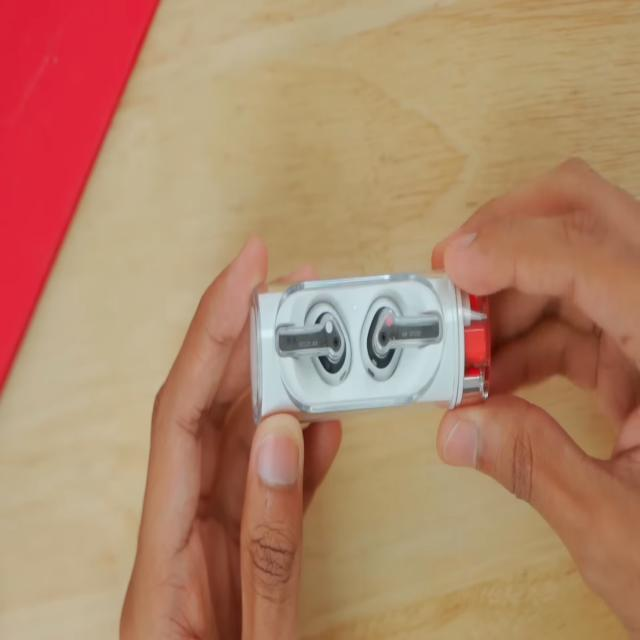airpods: (358, 292, 445, 384), (275, 300, 352, 386)
